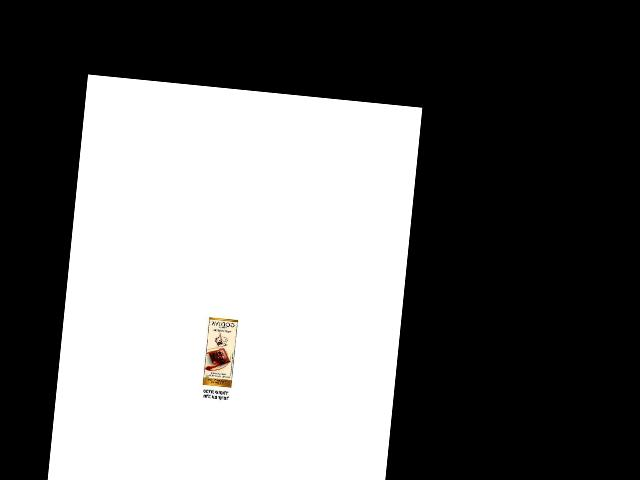chocolate: (200, 315, 237, 390)
